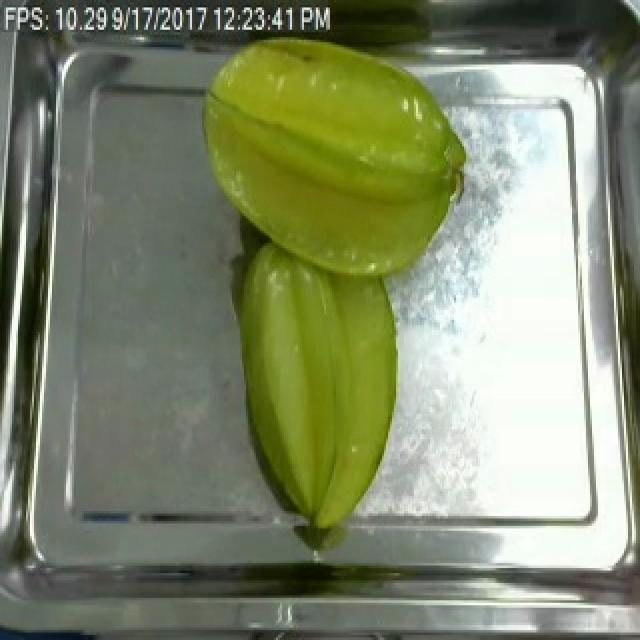fruit: (182, 20, 476, 288), (230, 228, 410, 541)
